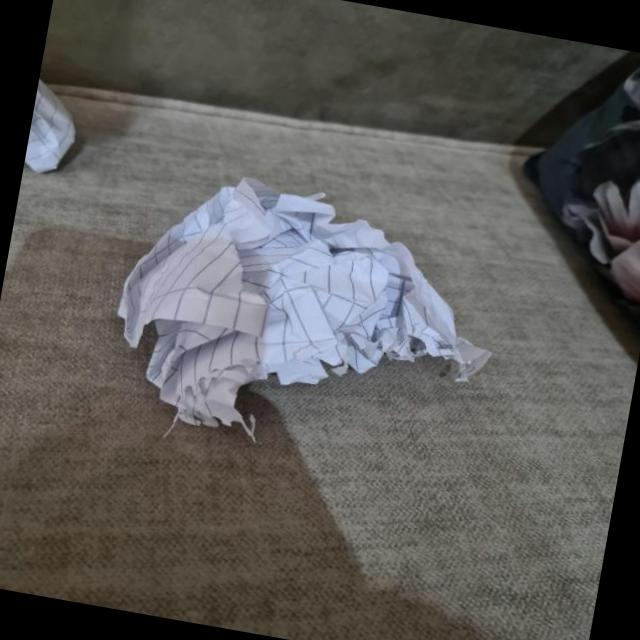cardboard paper: (116, 176, 487, 422), (23, 77, 72, 169)
